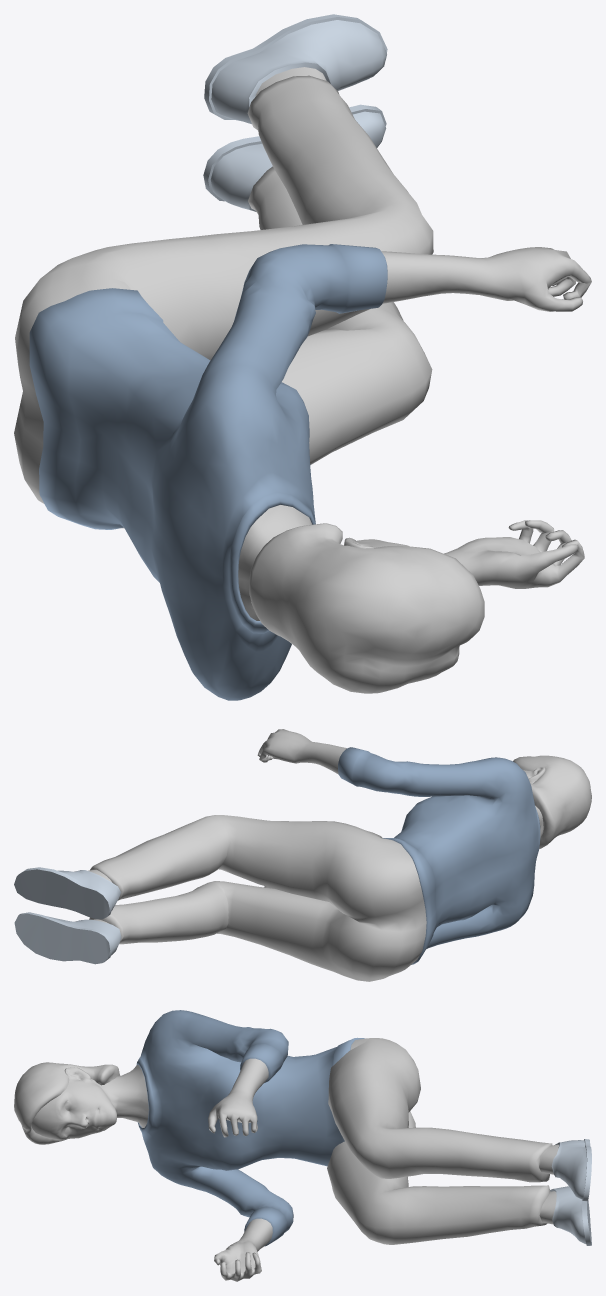
File: Caucasian_Female.obj
3 renders of one model, top to bottom at view 1: azimuth 30°, elevation 25°; view 2: azimuth 150°, elevation 25°; view 3: azimuth 270°, elevation 25°, orthographic. The views are drawn at different scales.
Visible parts, largest first — view 1: 2_Axle_Cab_Over_FemaleCaucasian; view 2: 2_Axle_Cab_Over_FemaleCaucasian; view 3: 2_Axle_Cab_Over_FemaleCaucasian.
Part boxes in pixels (x1=…): 2_Axle_Cab_Over_FemaleCaucasian: x1=14, y1=14, x2=591, y2=700; 2_Axle_Cab_Over_FemaleCaucasian: x1=14, y1=729, x2=591, y2=981; 2_Axle_Cab_Over_FemaleCaucasian: x1=14, y1=1010, x2=591, y2=1281.
Size of the model in its own units: 0.889 by 0.5441 by 1.42.
